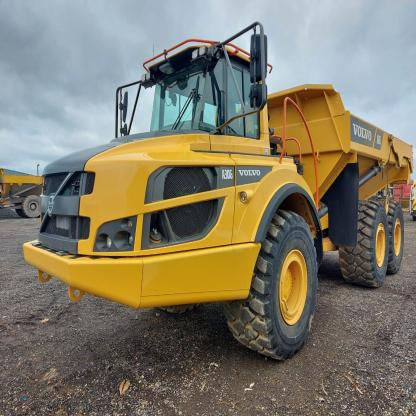dump_truck: (27, 20, 416, 361)
